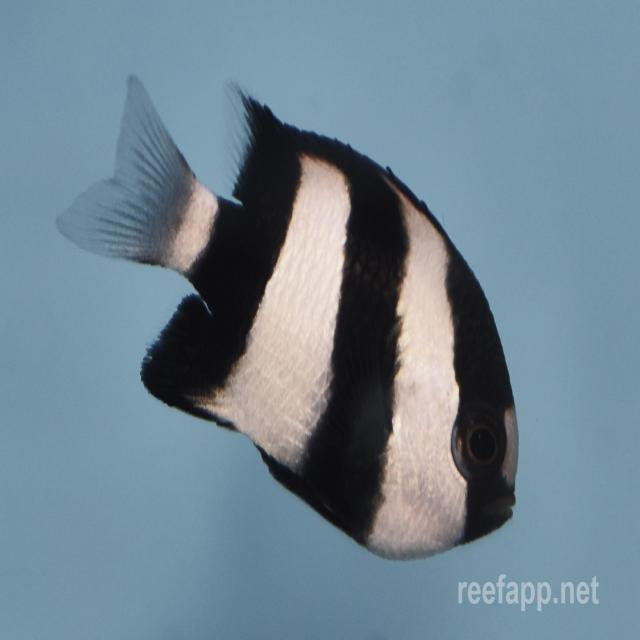ThreeStripedDamselfish: (52, 40, 521, 563)
